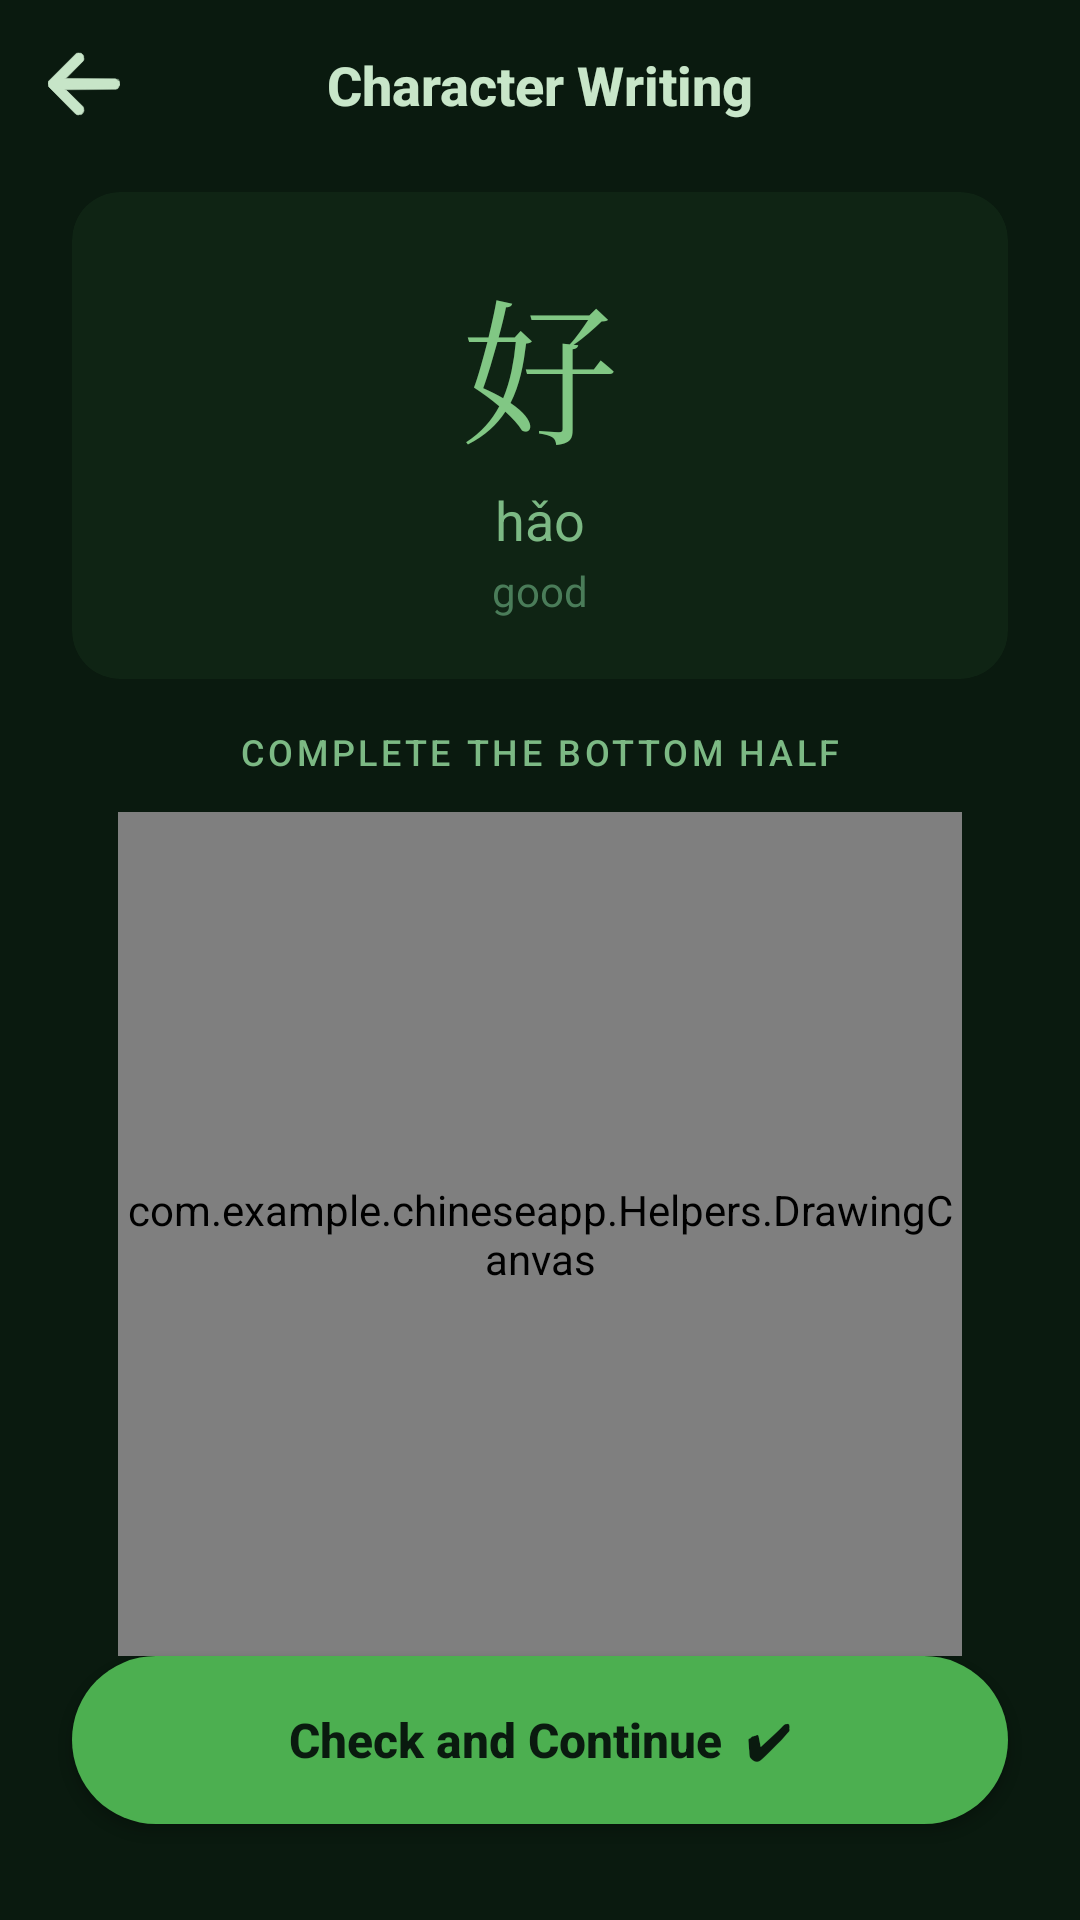

Screen size 1080 x 1920. Icon name, then its center in pixels as [x,y]:
back: [84,84]
